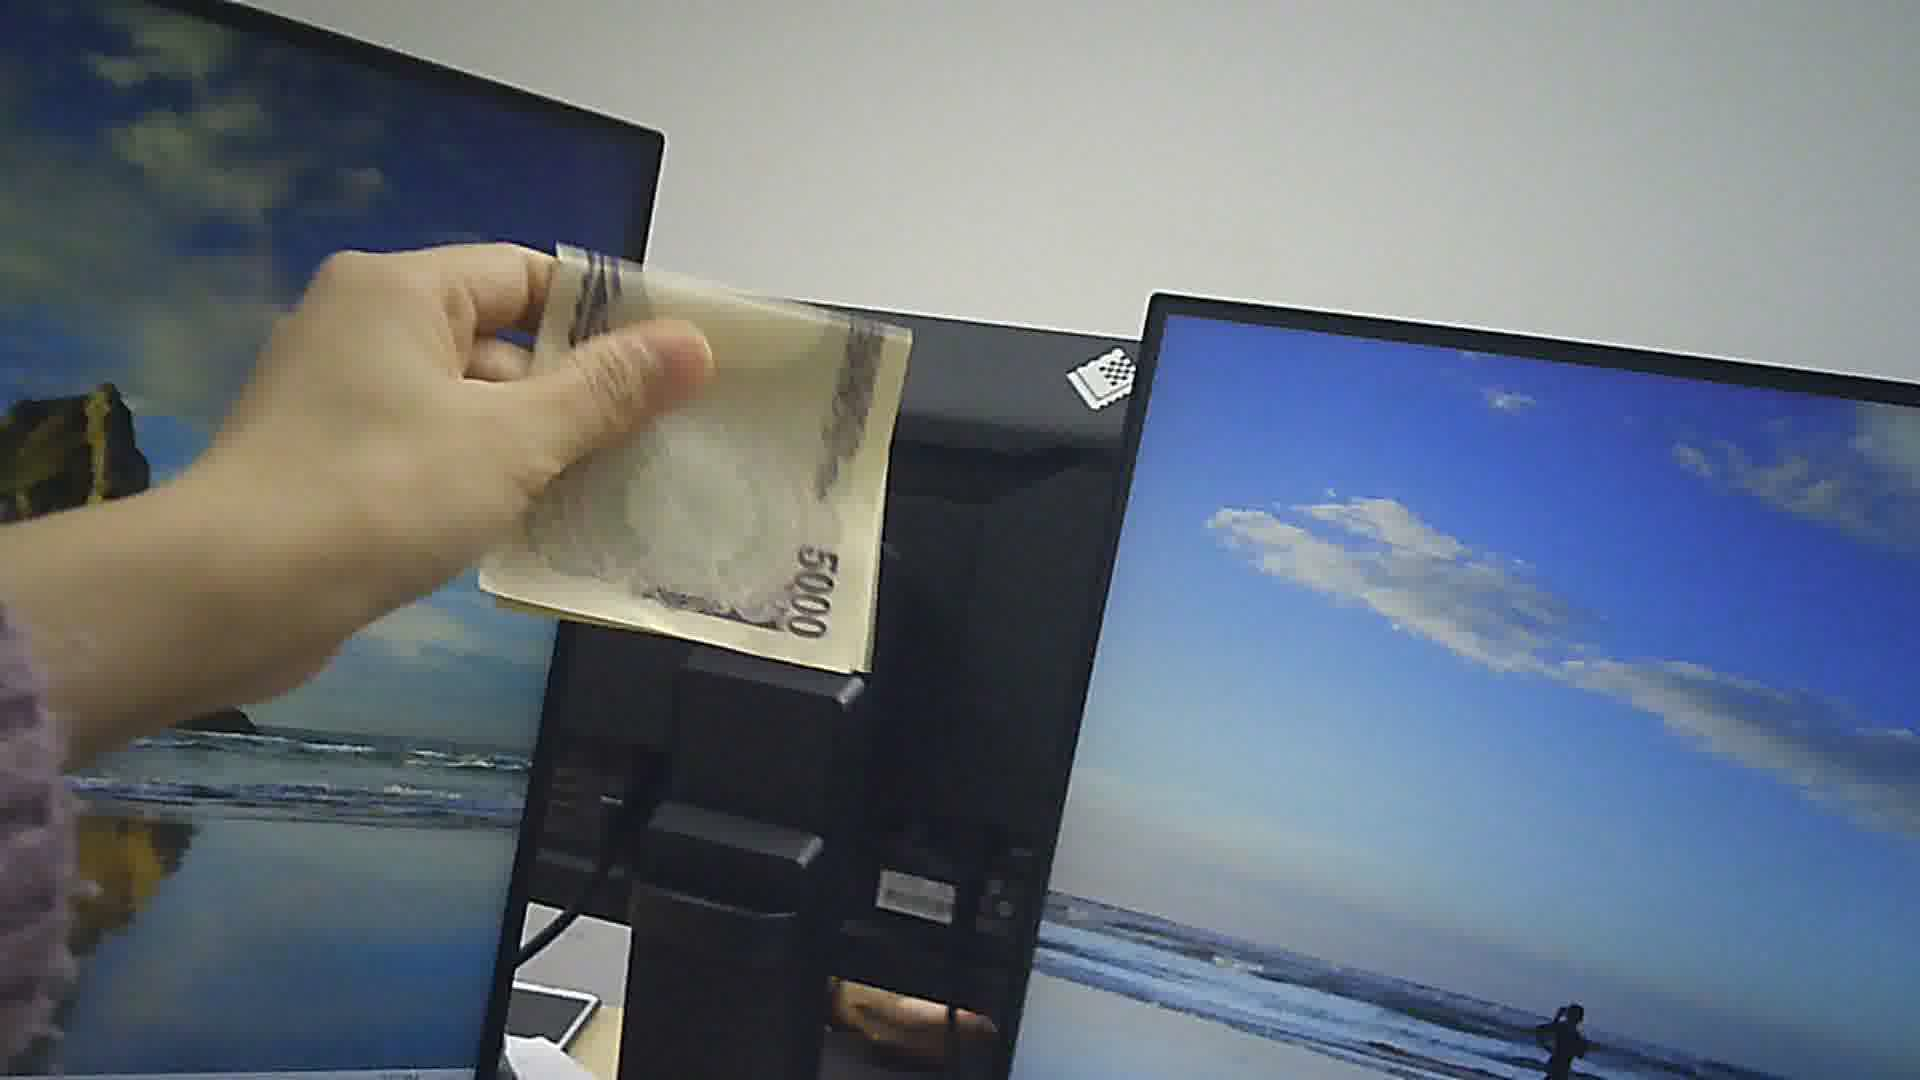5,000 Yen: (479, 237, 913, 703)
